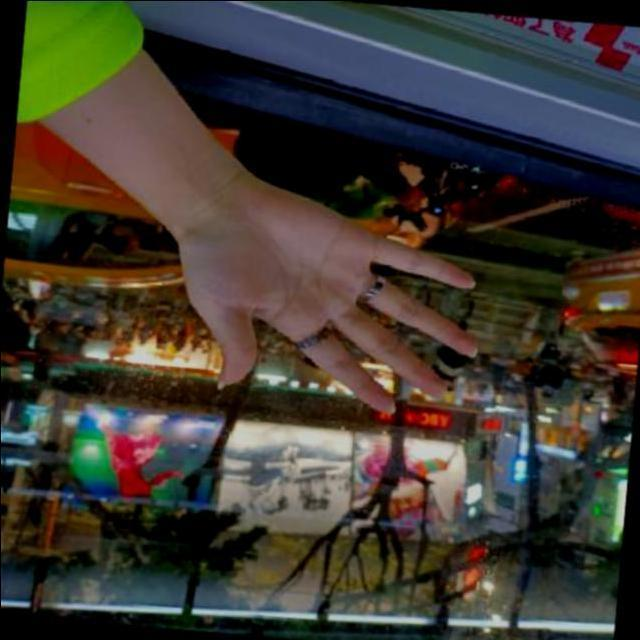hand: (149, 163, 507, 427)
